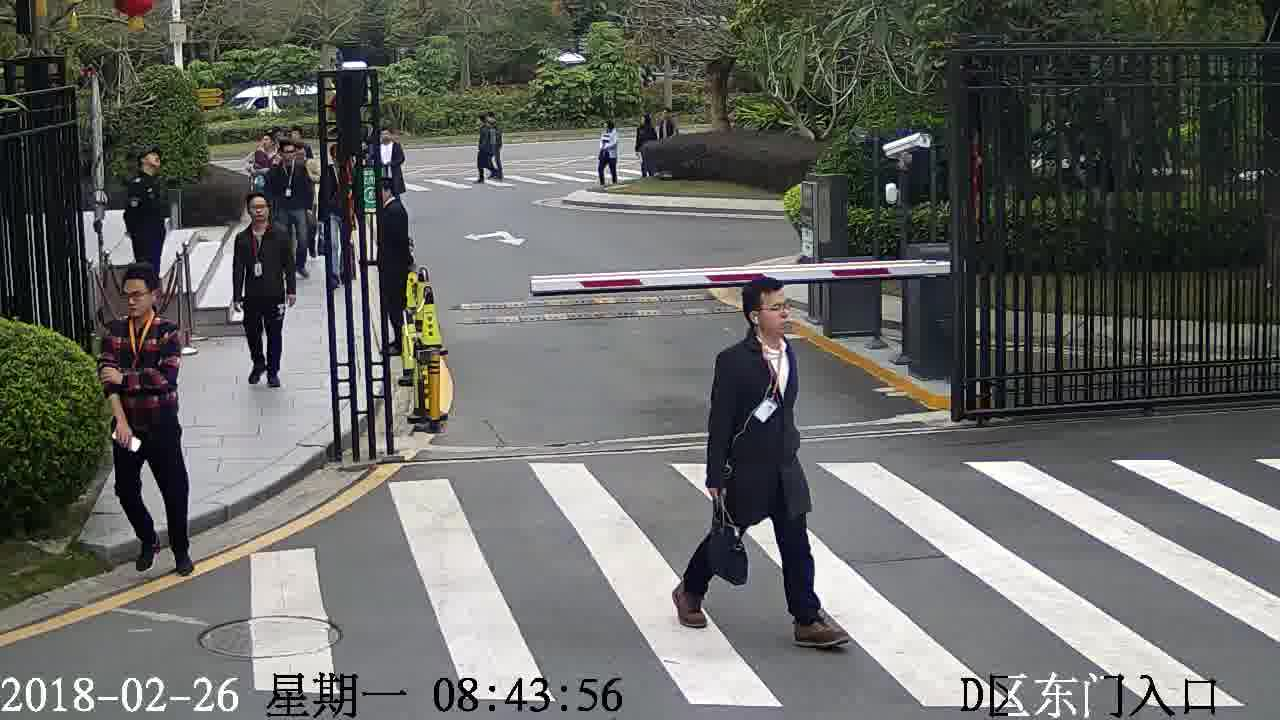face: (753, 288, 791, 337), (119, 277, 158, 316), (246, 193, 269, 225)
person: (714, 280, 799, 373), (105, 263, 181, 353), (238, 190, 293, 246), (127, 144, 167, 192), (369, 173, 406, 222), (266, 137, 307, 179), (323, 141, 360, 182), (285, 124, 315, 159), (253, 128, 285, 159), (373, 127, 401, 154), (636, 110, 658, 134), (599, 121, 619, 139), (475, 111, 490, 133)
